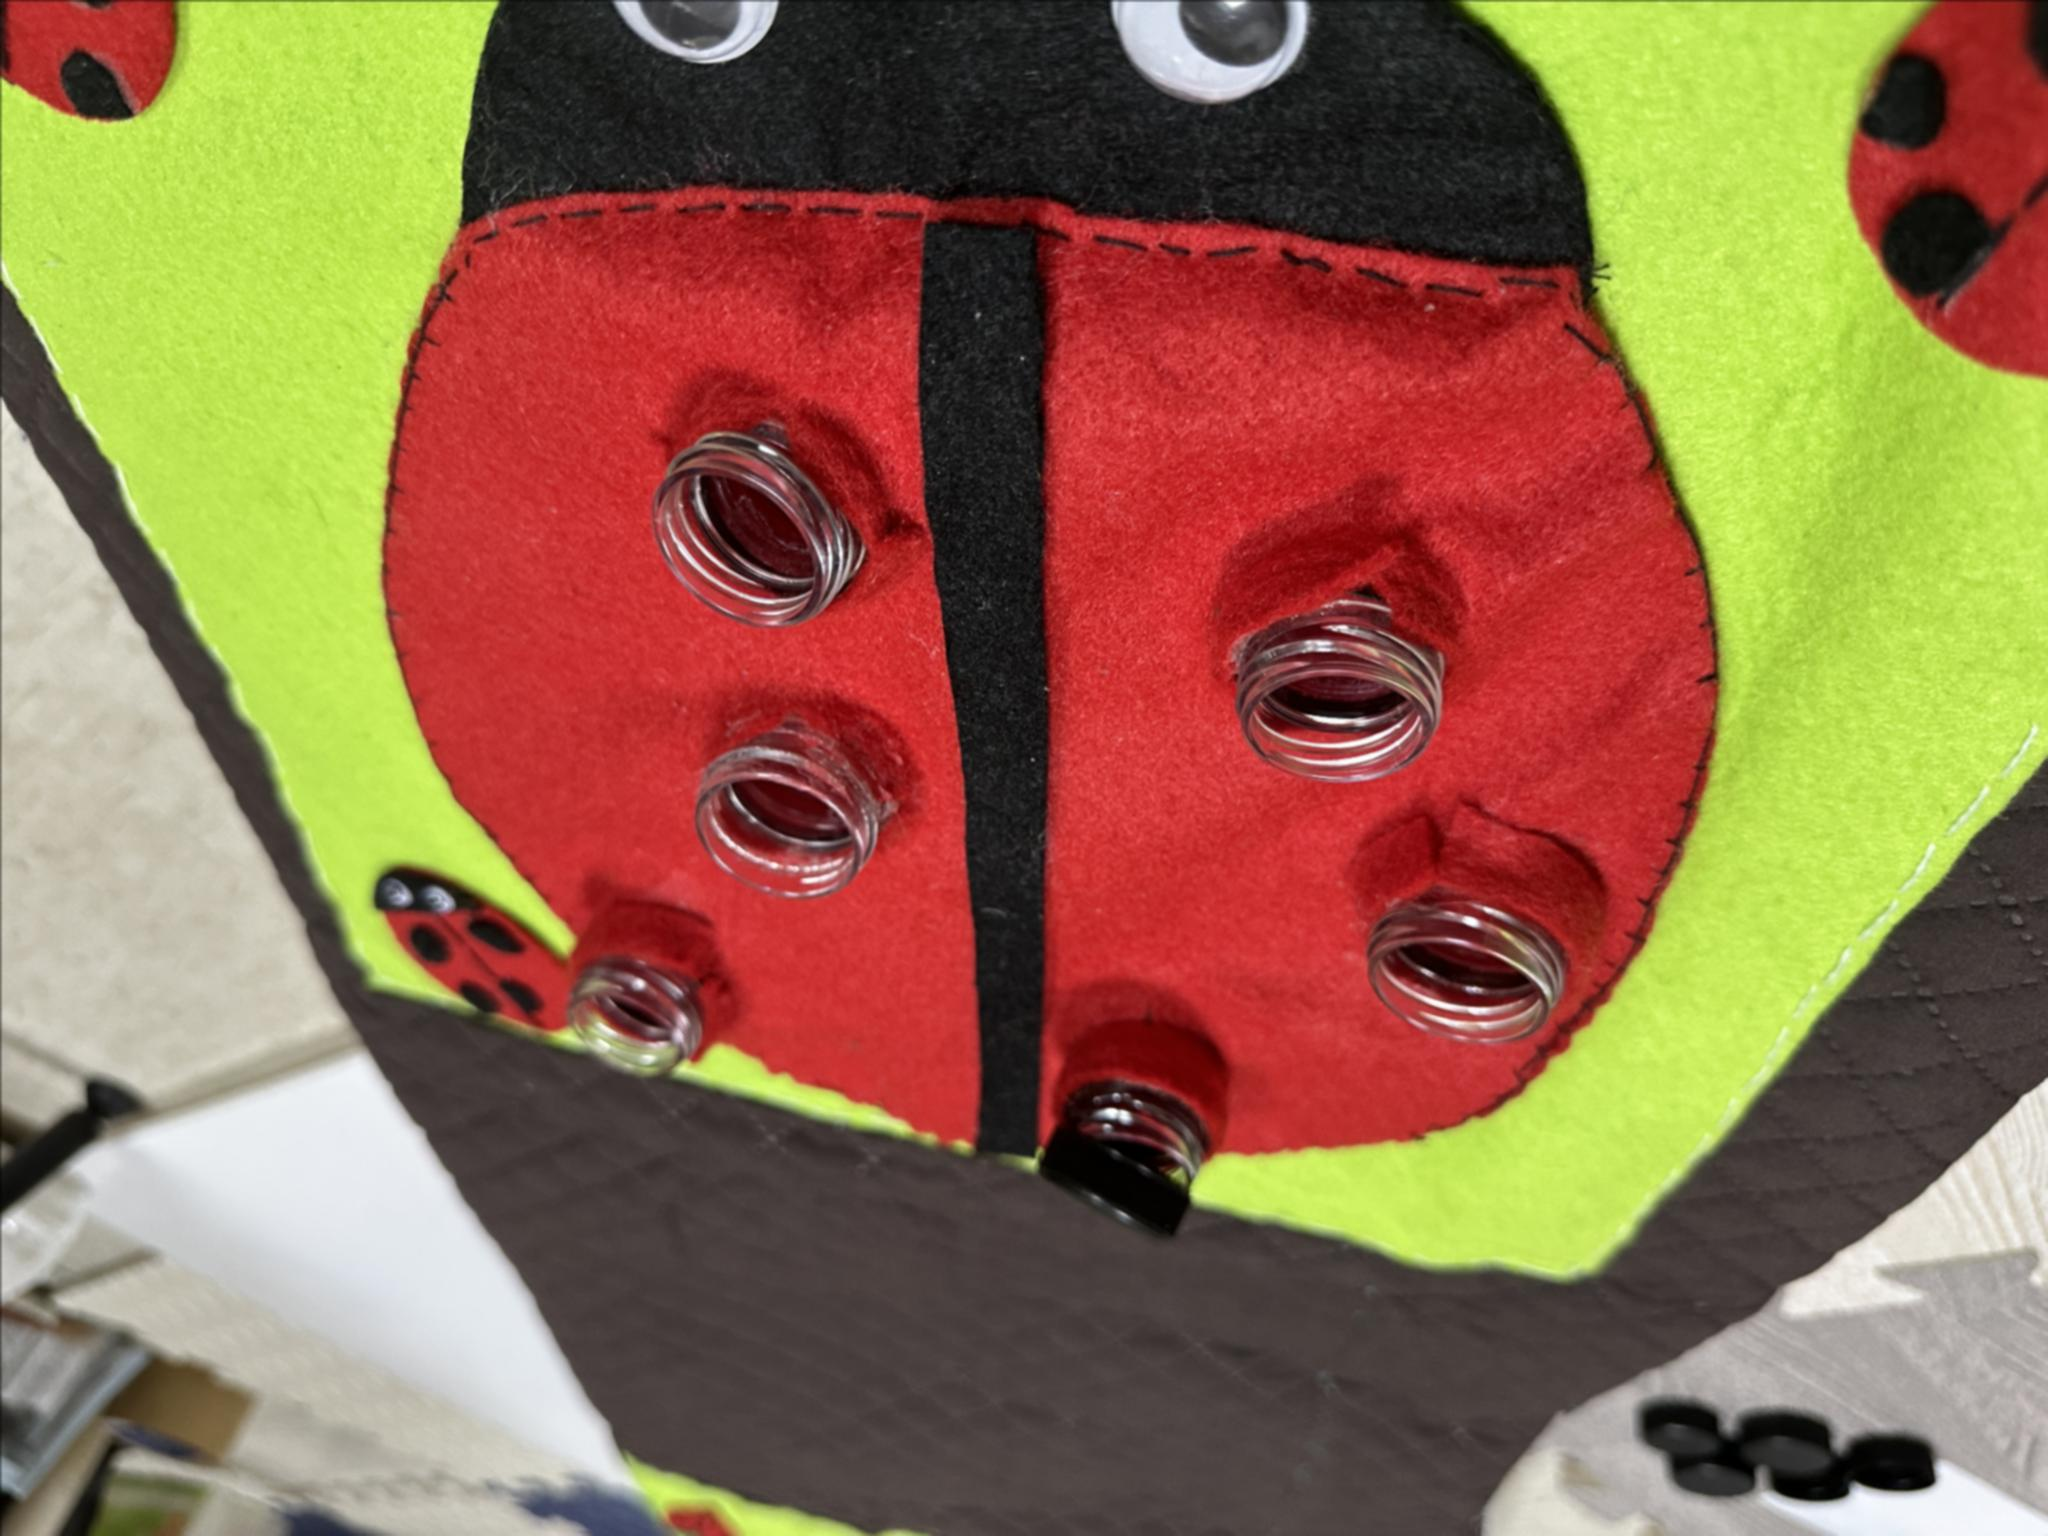cap_ng: (1011, 999, 1256, 1257)
